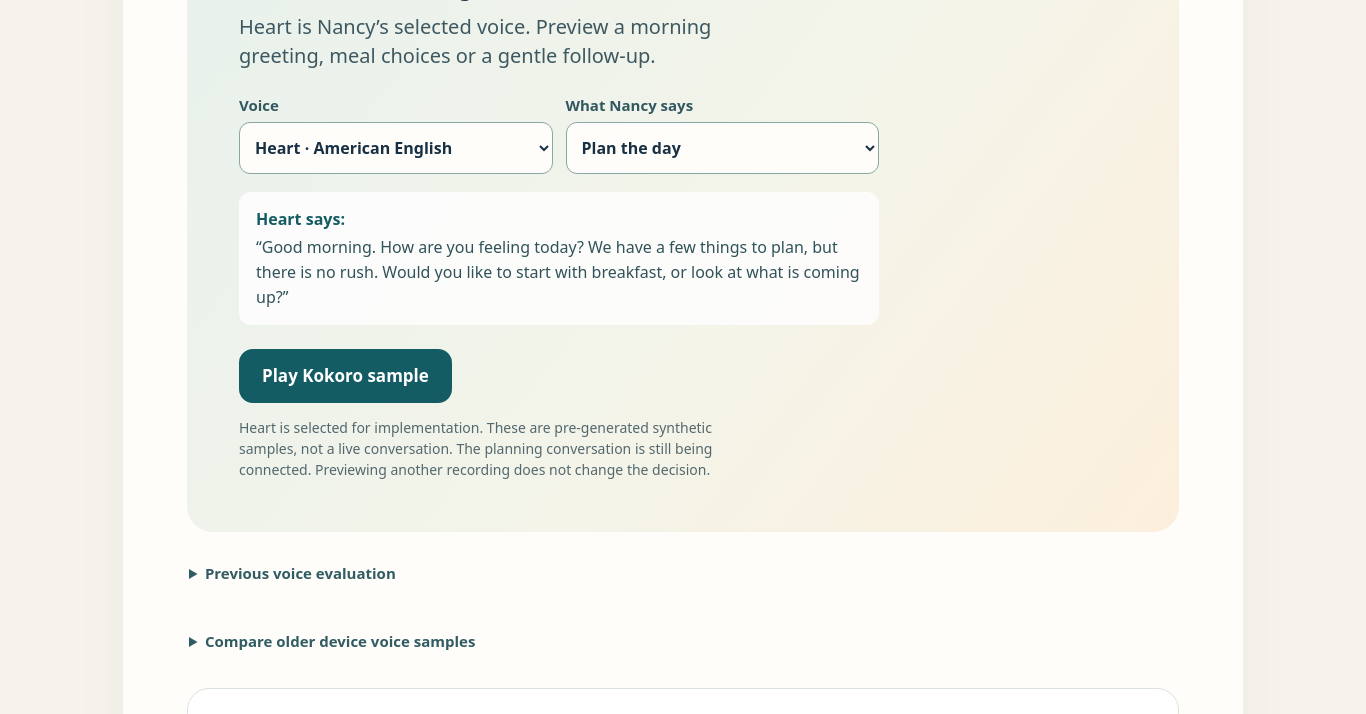
phone device preview › does not stop a newer Kokoro clip when an older play promise resolves
(page scrolled)
Click the button "Play Kokoro sample". click: (345, 376)
box: [239,349,452,403]
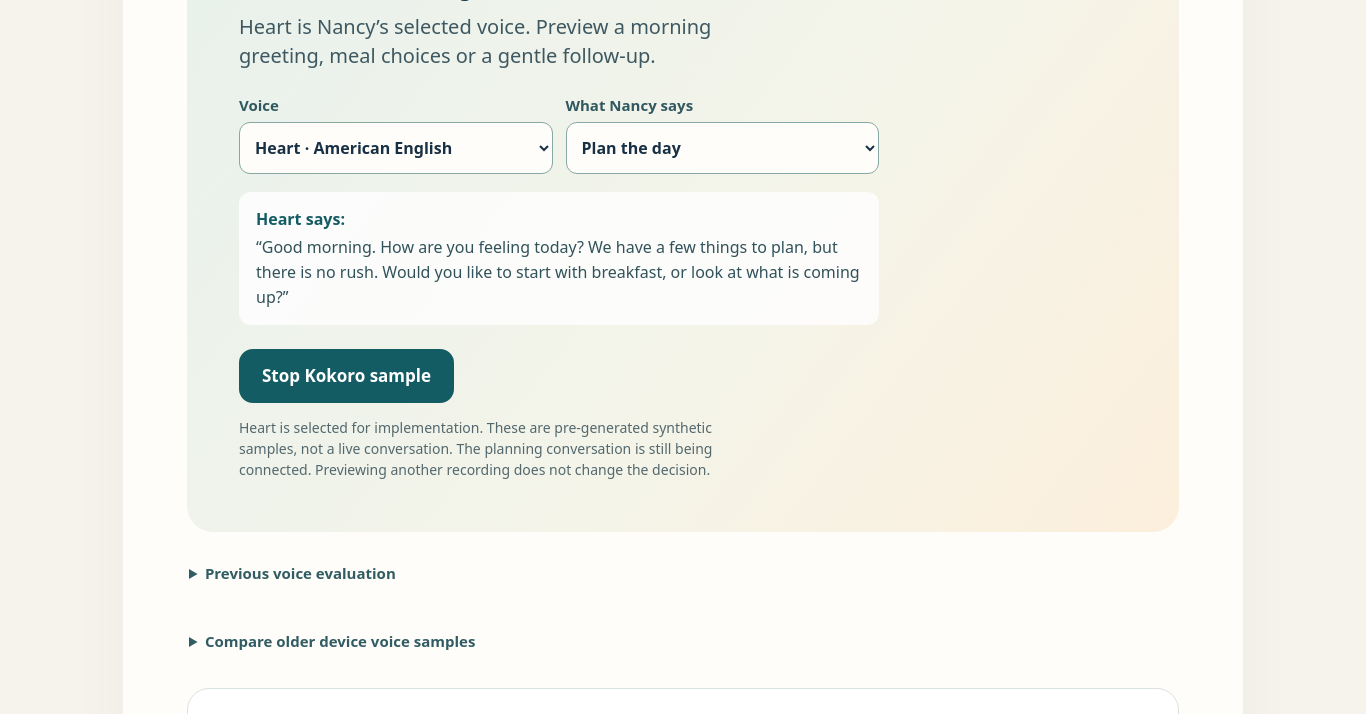
Select "Bella · American English" in the dropdown named "Kokoro voice". click: (396, 148)
box: [239,122,552,174]
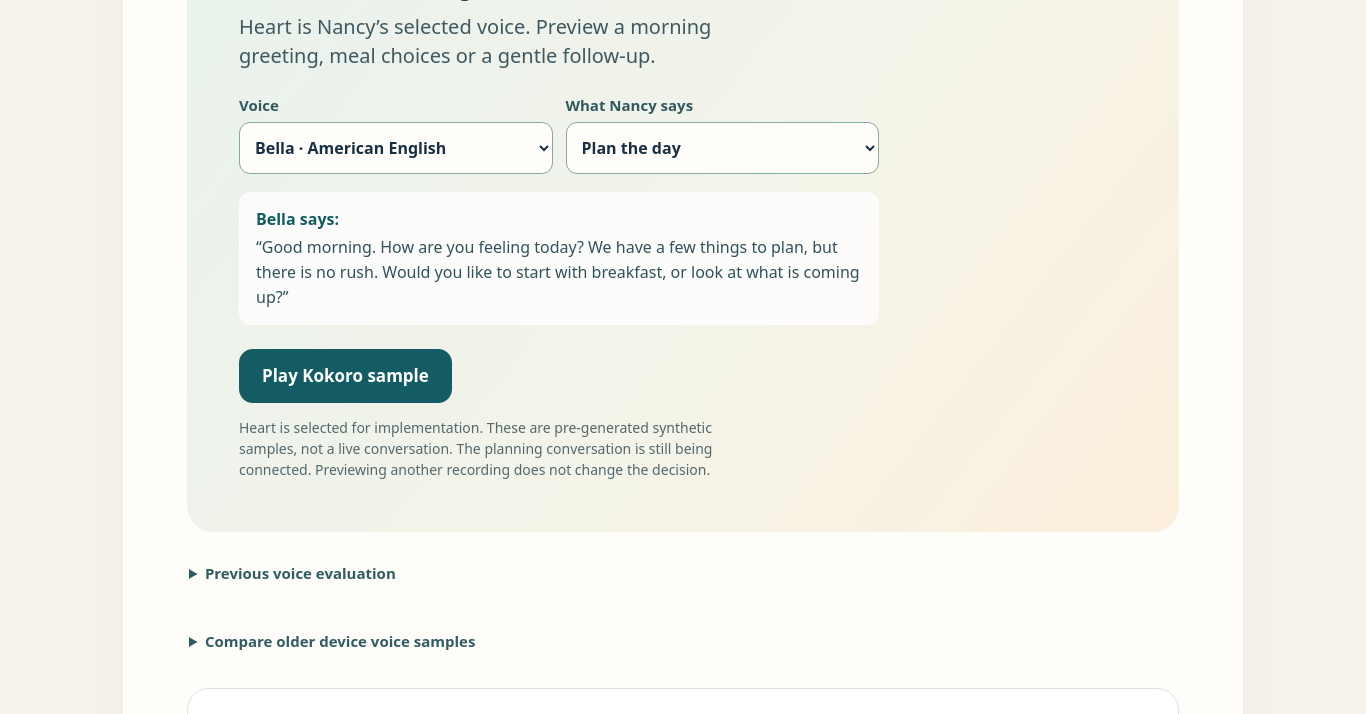
Click the button "Play Kokoro sample". click: (345, 376)
box: [239,349,452,403]
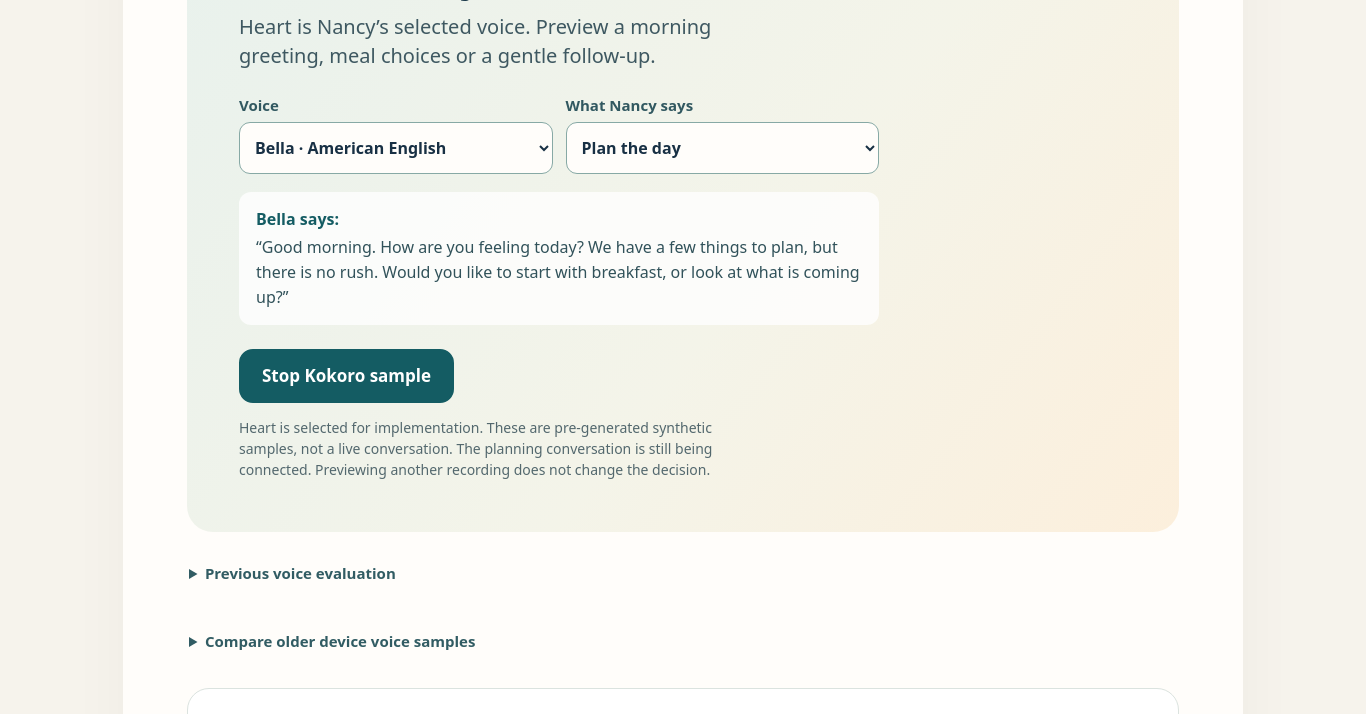
Now the button "Stop Kokoro sample" is shown, box [239,349,454,403]
